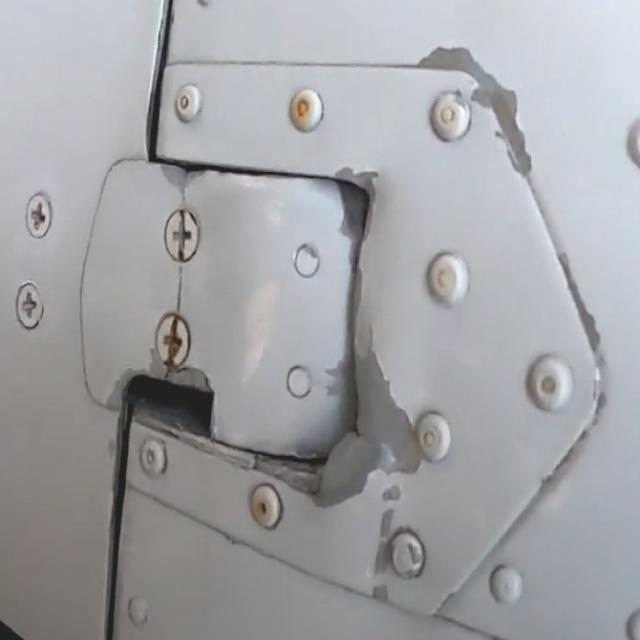crack: (172, 267, 190, 314)
